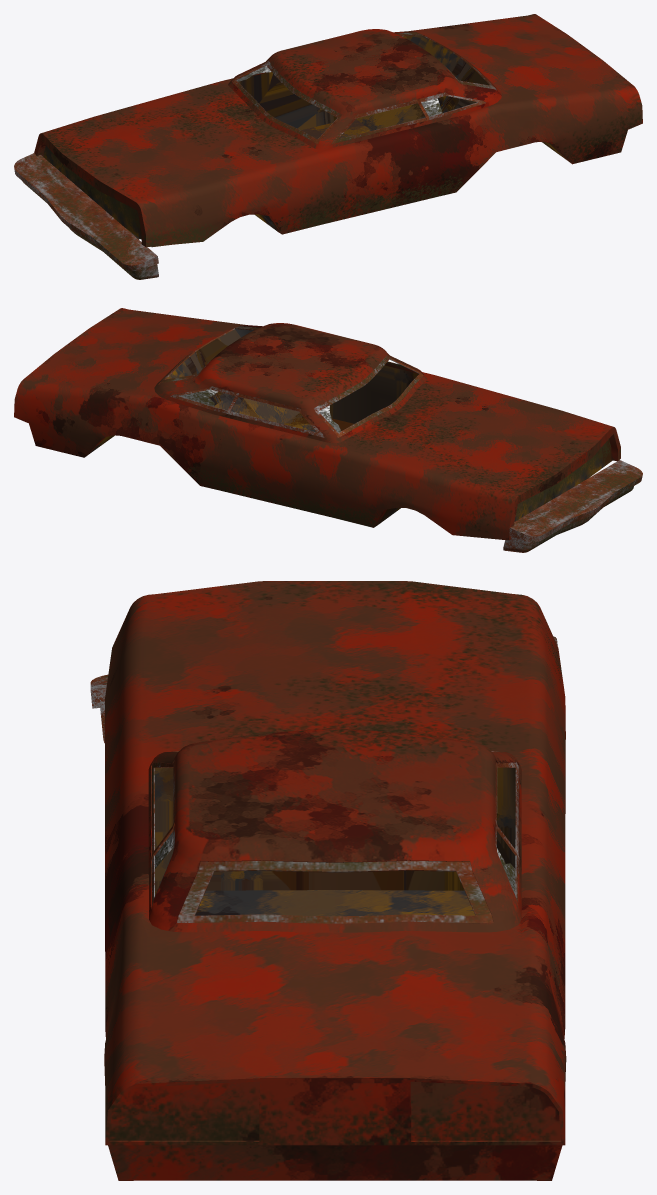
The model's file is scrapyardcar2final.fbx.
3 renders of one model, top to bottom at view 1: azimuth 30°, elevation 25°; view 2: azimuth 150°, elevation 25°; view 3: azimuth 270°, elevation 25°, orthographic. The views are drawn at different scales.
Visible parts, largest first — view 1: CarBody.001; view 2: CarBody.001; view 3: CarBody.001.
Boxes of the visible parts, x1,y1,x2,y2 form: CarBody.001: (14, 14, 642, 279); CarBody.001: (14, 308, 642, 552); CarBody.001: (90, 581, 566, 1180).
Bounding box in the file's own units: 514 × 203 × 102.
